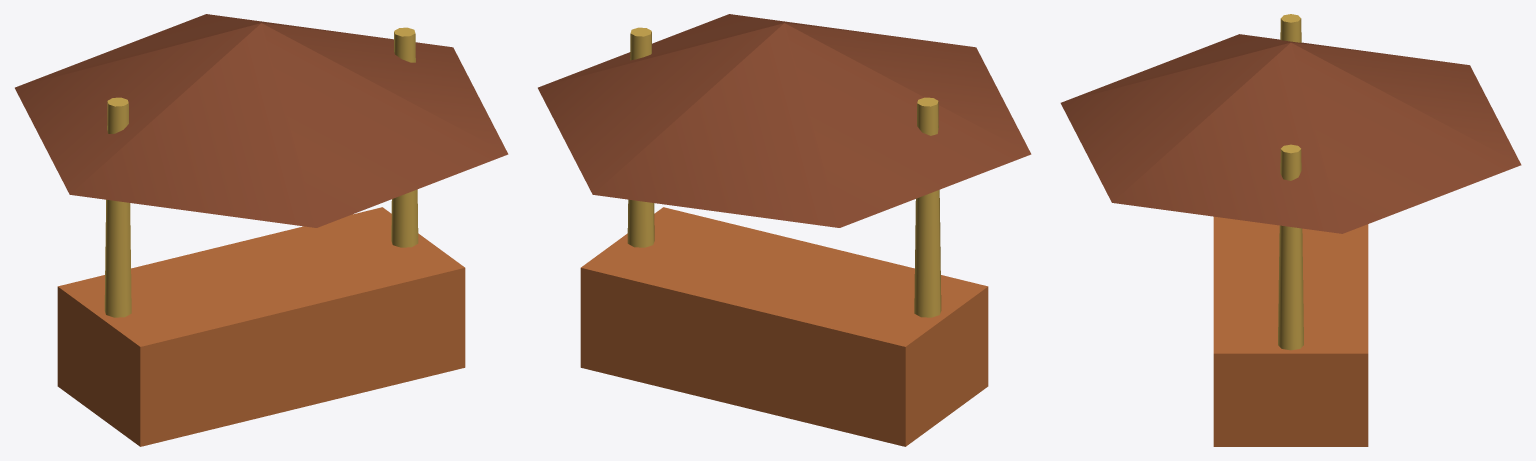
Rendered from market_booth.glb.
3 views of the same model, side by side, from view 1: azimuth 30°, elevation 25°; view 2: azimuth 150°, elevation 25°; view 3: azimuth 270°, elevation 25° (orthographic). The views are drawn at different scales.
Parts seen in each view (by area): view 1: booth_canopy, booth_counter, booth_post_-1, booth_post_1; view 2: booth_canopy, booth_counter, booth_post_-1, booth_post_1; view 3: booth_canopy, booth_counter, booth_post_1, booth_post_-1.
Part boxes in pixels (<box>): booth_canopy: <box>15,14,508,227</box>; booth_counter: <box>57,207,465,446</box>; booth_post_-1: <box>104,97,131,317</box>; booth_post_1: <box>391,27,418,247</box>; booth_canopy: <box>538,14,1031,227</box>; booth_counter: <box>580,207,988,446</box>; booth_post_-1: <box>914,97,941,317</box>; booth_post_1: <box>627,27,654,247</box>; booth_canopy: <box>1060,34,1521,233</box>; booth_counter: <box>1213,216,1368,446</box>; booth_post_1: <box>1278,144,1303,350</box>; booth_post_-1: <box>1280,14,1301,42</box>.
Size of what is drawn, in the model's own units: 4.59 by 3.54 by 4.48.
